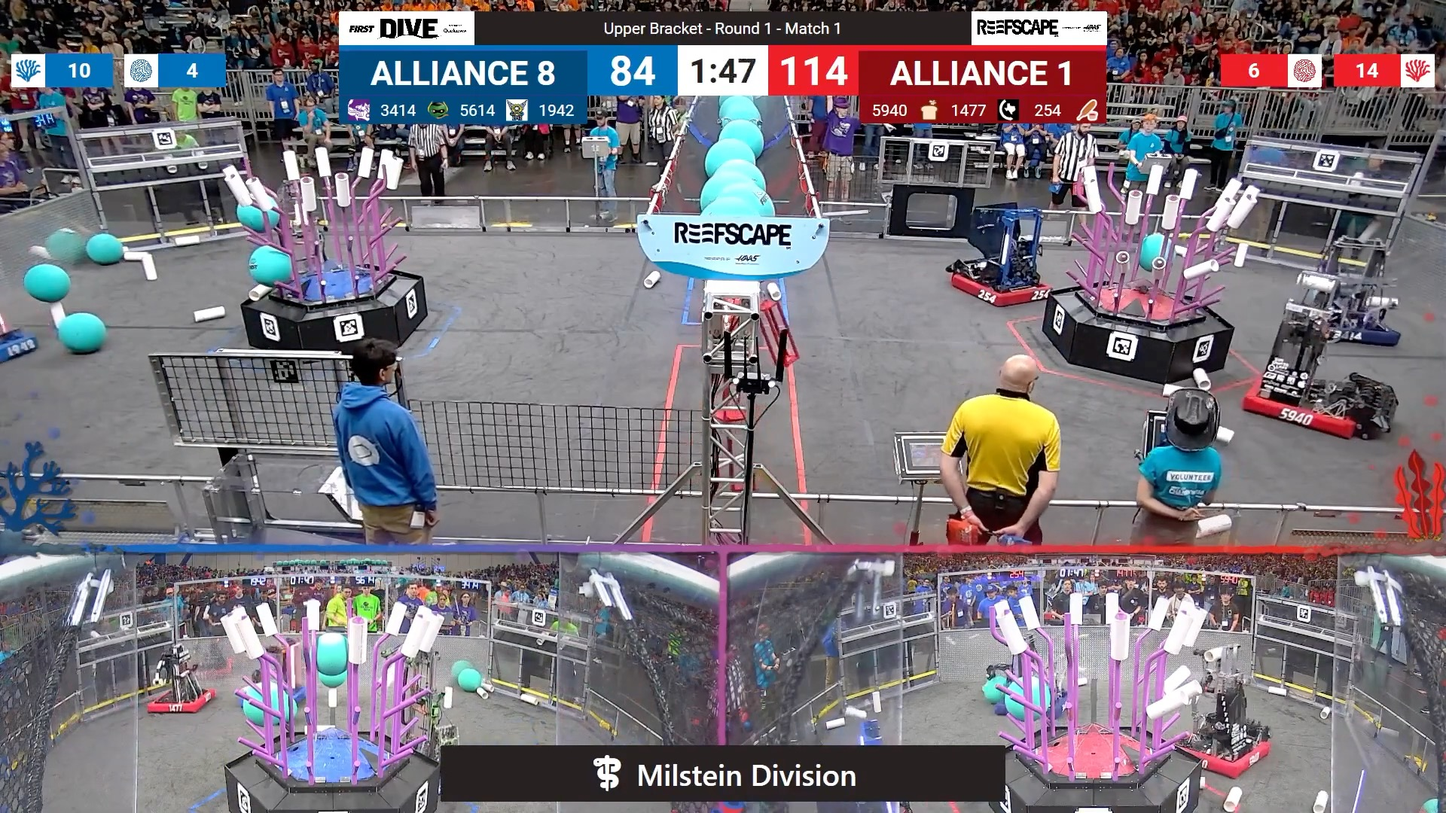bumpers: (1235, 375, 1394, 449), (1303, 299, 1406, 354), (1166, 728, 1278, 778), (940, 260, 1056, 308), (141, 688, 221, 720), (0, 324, 47, 370)
